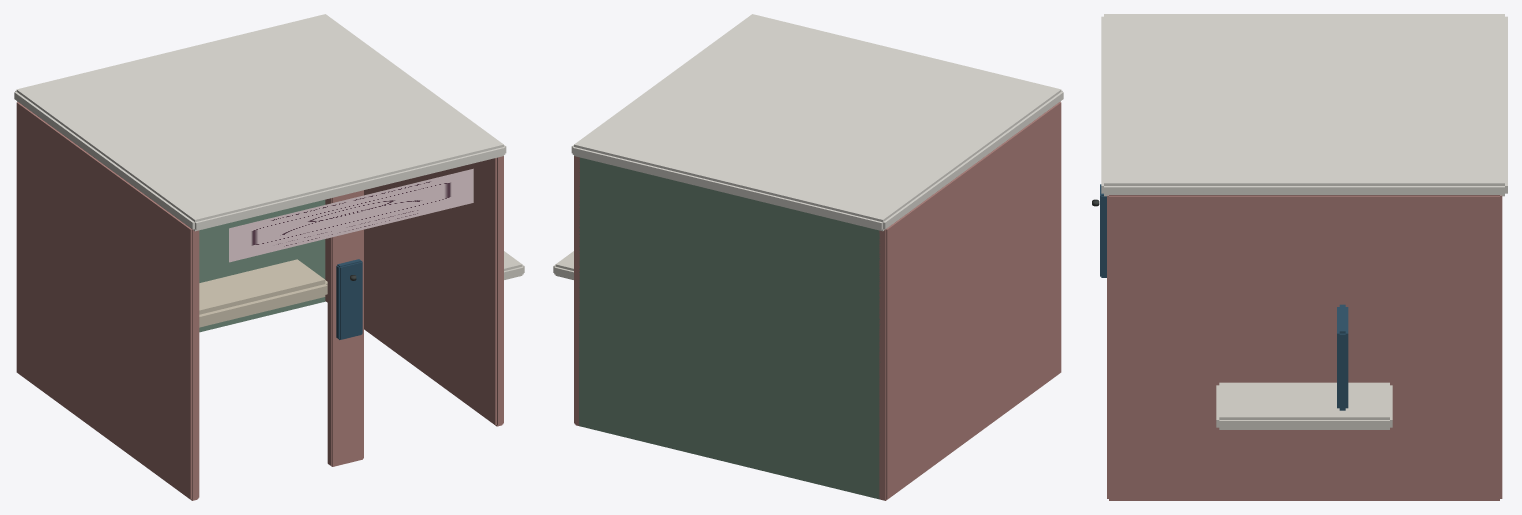
File: fixture_v23_photo_pod.glb
The picture shows the model from 3 angles, left to right: view 1: azimuth 30°, elevation 25°; view 2: azimuth 150°, elevation 25°; view 3: azimuth 270°, elevation 25°; orthographic projection. The views are drawn at different scales.
Parts seen in each view (by area): view 1: fixture_v23_photo_pod_V23_mineral_rose, fixture_v23_photo_pod_Warm_white_coating.001, fixture_v23_photo_pod_V23_original_editorial.001, fixture_v23_photo_pod_V23_natural_canvas, fixture_v23_photo_pod_V23_soft_sage, fixture_v23_photo_pod_V23_technical_ink.001; view 2: fixture_v23_photo_pod_V23_soft_sage, fixture_v23_photo_pod_Warm_white_coating.001, fixture_v23_photo_pod_V23_mineral_rose; view 3: fixture_v23_photo_pod_V23_mineral_rose, fixture_v23_photo_pod_Warm_white_coating.001, fixture_v23_photo_pod_Honed_solid_surface.001, fixture_v23_photo_pod_V23_technical_ink.001.
Boxes of the visible parts, x1=… form: fixture_v23_photo_pod_V23_mineral_rose: x1=16, y1=101, x2=503, y2=500; fixture_v23_photo_pod_Warm_white_coating.001: x1=14, y1=14, x2=506, y2=231; fixture_v23_photo_pod_V23_original_editorial.001: x1=229, y1=168, x2=473, y2=262; fixture_v23_photo_pod_V23_natural_canvas: x1=199, y1=259, x2=327, y2=327; fixture_v23_photo_pod_V23_soft_sage: x1=199, y1=199, x2=325, y2=332; fixture_v23_photo_pod_V23_technical_ink.001: x1=336, y1=259, x2=362, y2=339; fixture_v23_photo_pod_V23_soft_sage: x1=579, y1=157, x2=880, y2=499; fixture_v23_photo_pod_Warm_white_coating.001: x1=571, y1=14, x2=1063, y2=231; fixture_v23_photo_pod_V23_mineral_rose: x1=574, y1=101, x2=1061, y2=500; fixture_v23_photo_pod_V23_mineral_rose: x1=1107, y1=195, x2=1502, y2=500; fixture_v23_photo_pod_Warm_white_coating.001: x1=1101, y1=14, x2=1507, y2=196; fixture_v23_photo_pod_Honed_solid_surface.001: x1=1216, y1=382, x2=1392, y2=429; fixture_v23_photo_pod_V23_technical_ink.001: x1=1100, y1=184, x2=1348, y2=410.
Bounding box in the file's own units: 3.52 × 2.48 × 2.95.
Materials: 8 (1 with a texture image).
